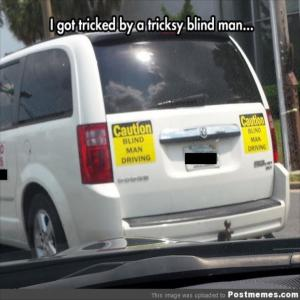Vehicle-registration-plate: (185, 143, 222, 172)
